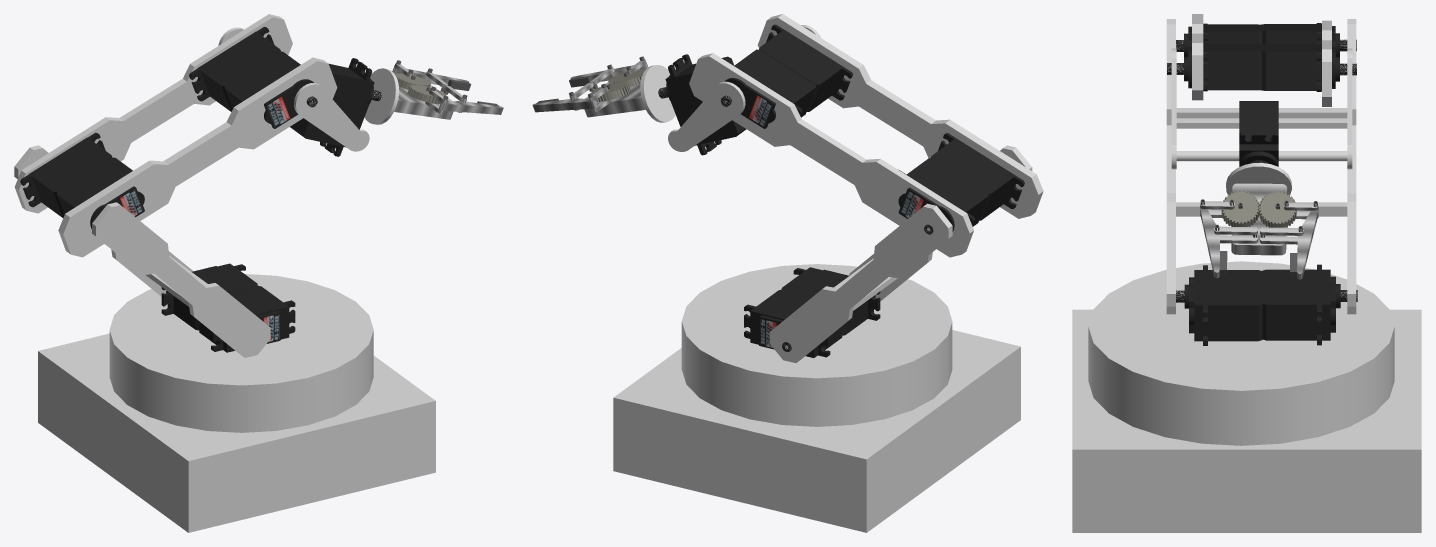
Rendered from Final Arm.dae.
3 renders of one model, left to right at view 1: azimuth 30°, elevation 25°; view 2: azimuth 150°, elevation 25°; view 3: azimuth 270°, elevation 25°, orthographic. The views are drawn at different scales.
Parts seen in each view (by area): view 1: Model, servo (×7), Group16, Group2, Group_32, Group12, cylinder; view 2: Model, servo (×7), Group_32, Group1, Group16, Group12, cylinder3; view 3: Model, servo (×7), Group16, Group_32, Group12, Group15, Group14, cylinder3, cylinder, Group1, Group2.
Boxes of the visible parts, x1,y1,x2,y2 form: Model: (14,14,435,532); servo (×7): (20,27,381,352); Group16: (92,202,270,357); Group2: (294,83,369,151); Group_32: (14,145,192,296); Group12: (394,86,453,119); cylinder: (439,101,503,114); Model: (613,14,1043,532); servo (×7): (658,24,1024,357); Group_32: (769,203,952,362); Group1: (668,81,745,151); Group16: (849,145,1032,301); Group12: (584,84,645,117); cylinder3: (532,98,597,112); Model: (1072,14,1421,532); servo (×7): (1167,23,1357,345); Group16: (1166,19,1175,314); Group_32: (1347,19,1356,314); Group12: (1231,183,1287,255); Group15: (1259,191,1296,227); Group14: (1221,190,1259,226); cylinder3: (1297,209,1318,279); cylinder: (1200,207,1219,278); Group1: (1347,48,1352,169); Group2: (1171,48,1176,169).
Bounding box in the file's own units: 3.69 × 2.13 × 3.04.
Materials: 9 (2 with a texture image).
